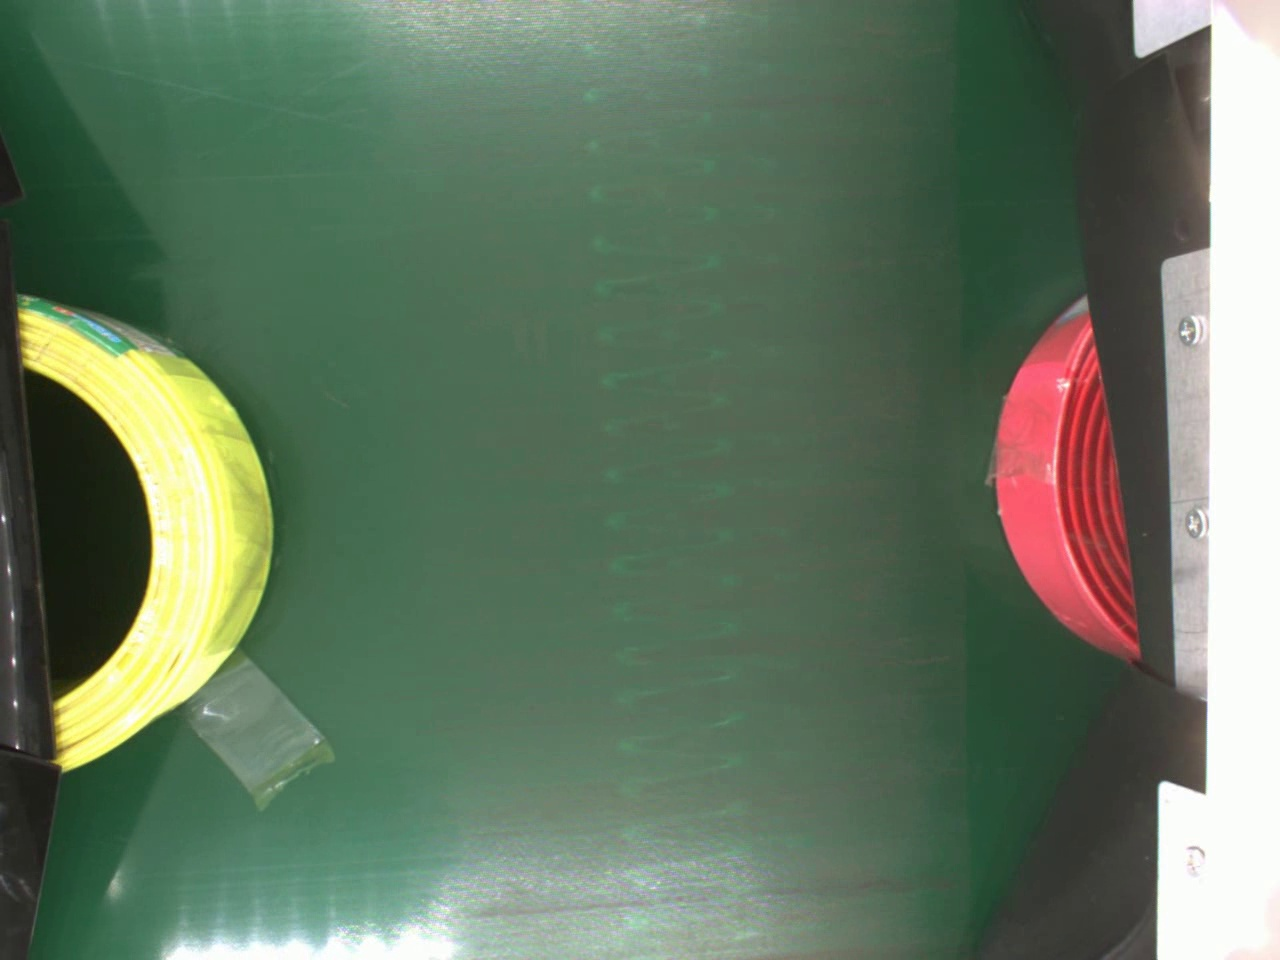red: (996, 281, 1139, 666)
yellow: (13, 285, 277, 777)
